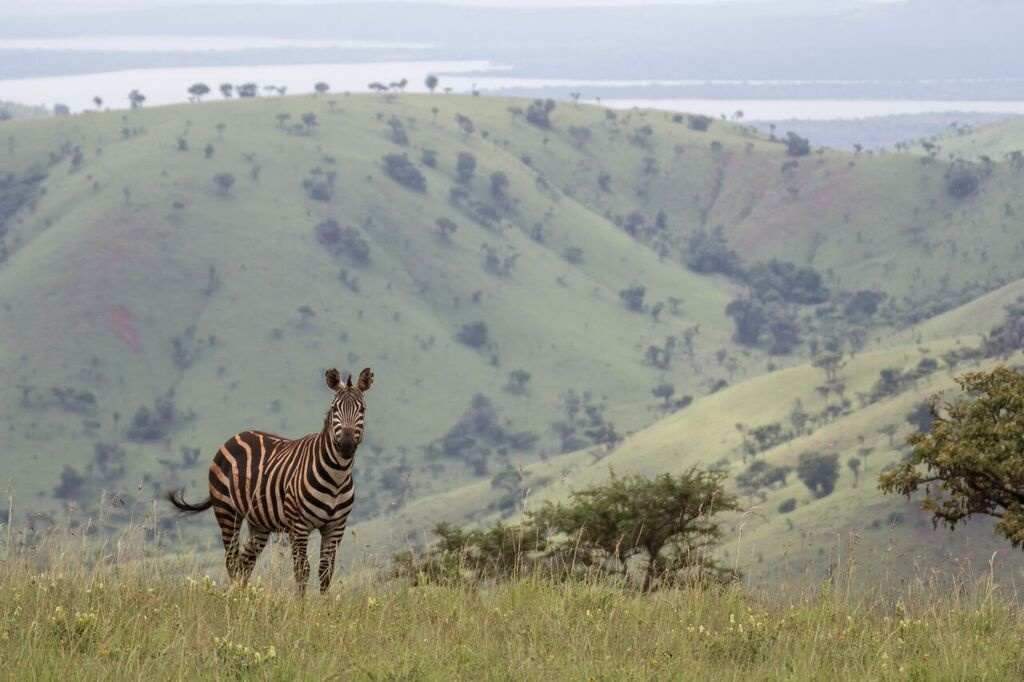zebra: (167, 363, 380, 609)
